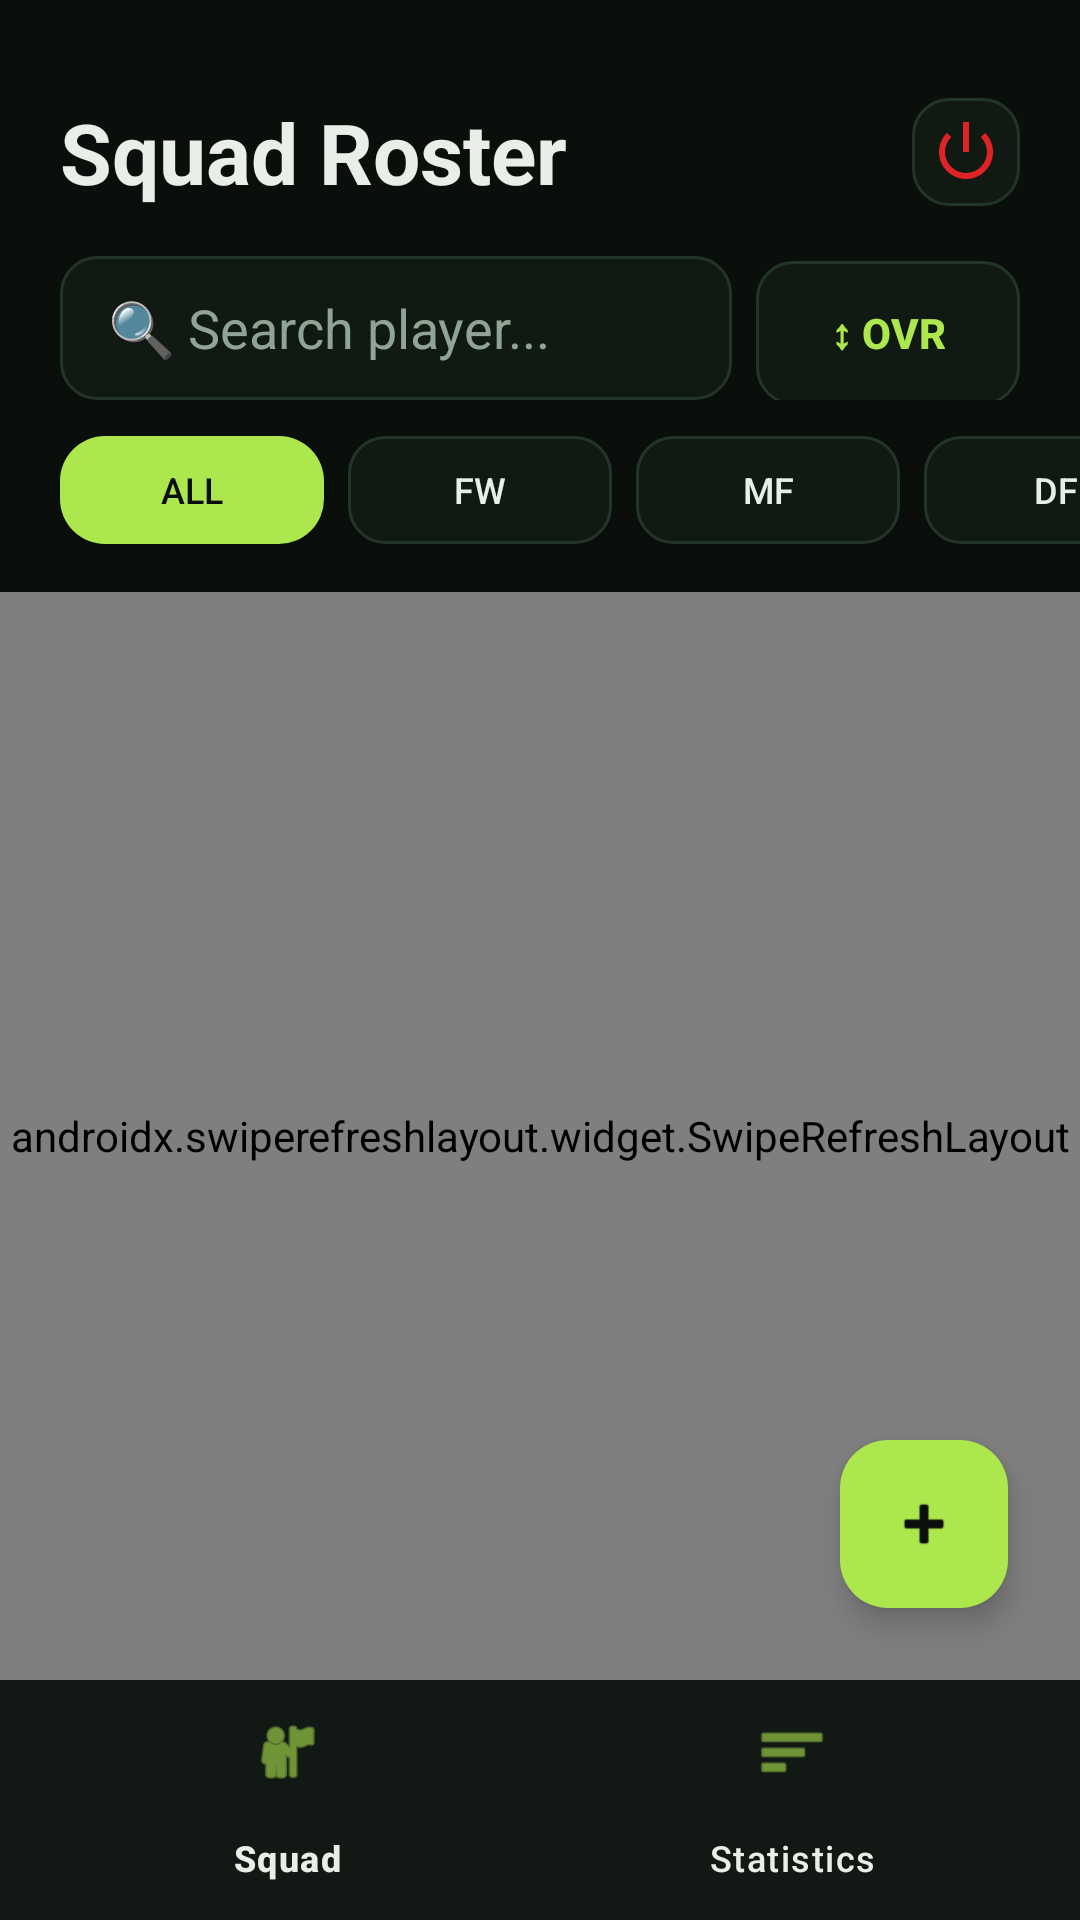

Point at icon controls on the screen. Image size 1080 × 1920, points as (x,y).
Add Player: (924,1524)
Log Out: (966,152)
